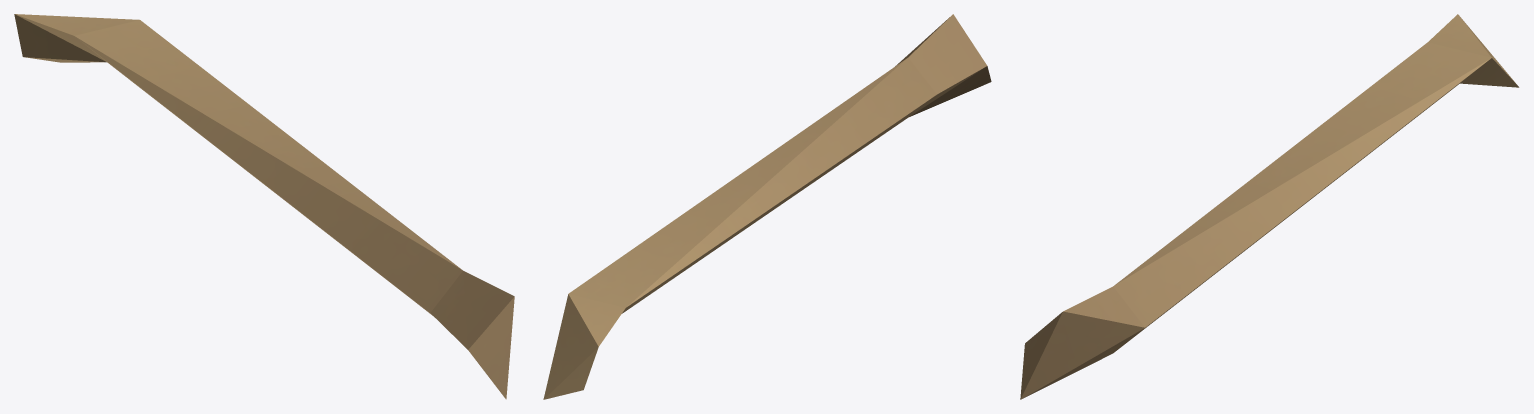
Rendered from Skull_2_LOD.fbx.
3 renders of one model, left to right at view 1: azimuth 30°, elevation 25°; view 2: azimuth 150°, elevation 25°; view 3: azimuth 330°, elevation 25°, orthographic. The views are drawn at different scales.
Visible parts, largest first — view 1: pCube899; view 2: pCube899; view 3: pCube899.
Boxes of the visible parts, x1=… form: pCube899: x1=14, y1=14, x2=514, y2=399; pCube899: x1=543, y1=14, x2=991, y2=399; pCube899: x1=1020, y1=14, x2=1519, y2=399.
Bounding box in the file's own units: 0.1445 × 0.182 × 1.49.
